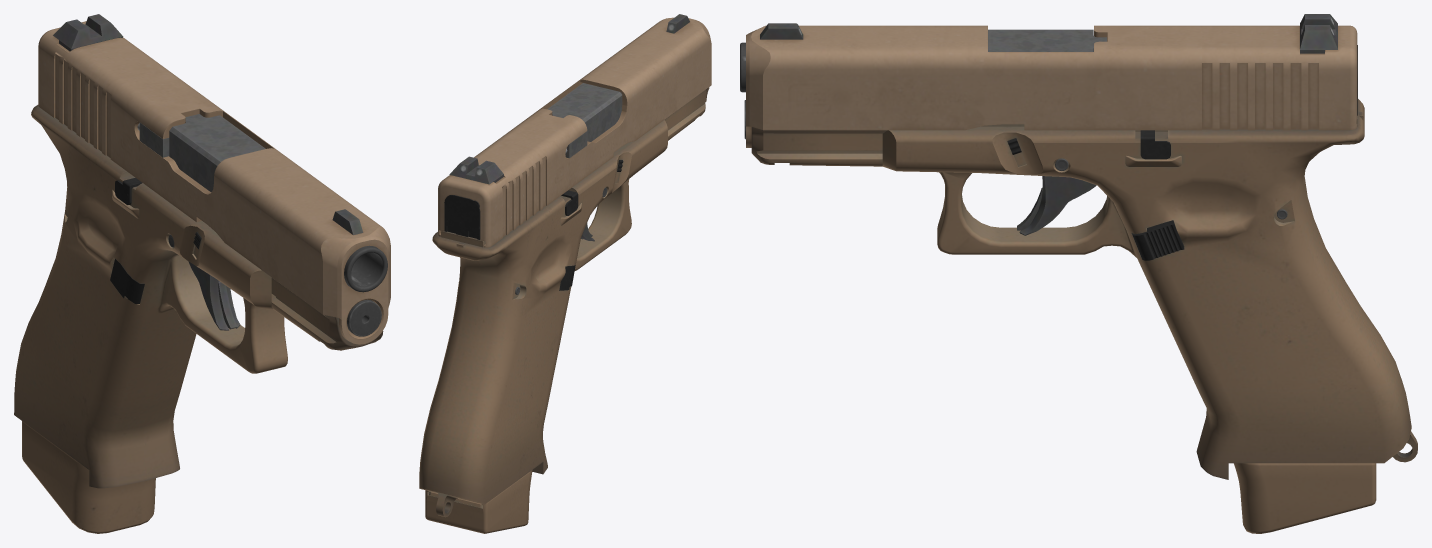
File: glock.glb
The picture shows the model from 3 angles, left to right: view 1: azimuth 30°, elevation 25°; view 2: azimuth 150°, elevation 25°; view 3: azimuth 270°, elevation 25°; orthographic projection. The views are drawn at different scales.
Parts seen in each view (by area): view 1: glock_mesh; view 2: glock_mesh; view 3: glock_mesh.
Part boxes in pixels (x1=…): glock_mesh: x1=14, y1=14, x2=390, y2=533; glock_mesh: x1=419, y1=14, x2=711, y2=533; glock_mesh: x1=740, y1=14, x2=1417, y2=533.
Bounding box in the file's own units: 0.2354 × 1.17 × 1.45.
Materials: 1 (1 with a texture image).
